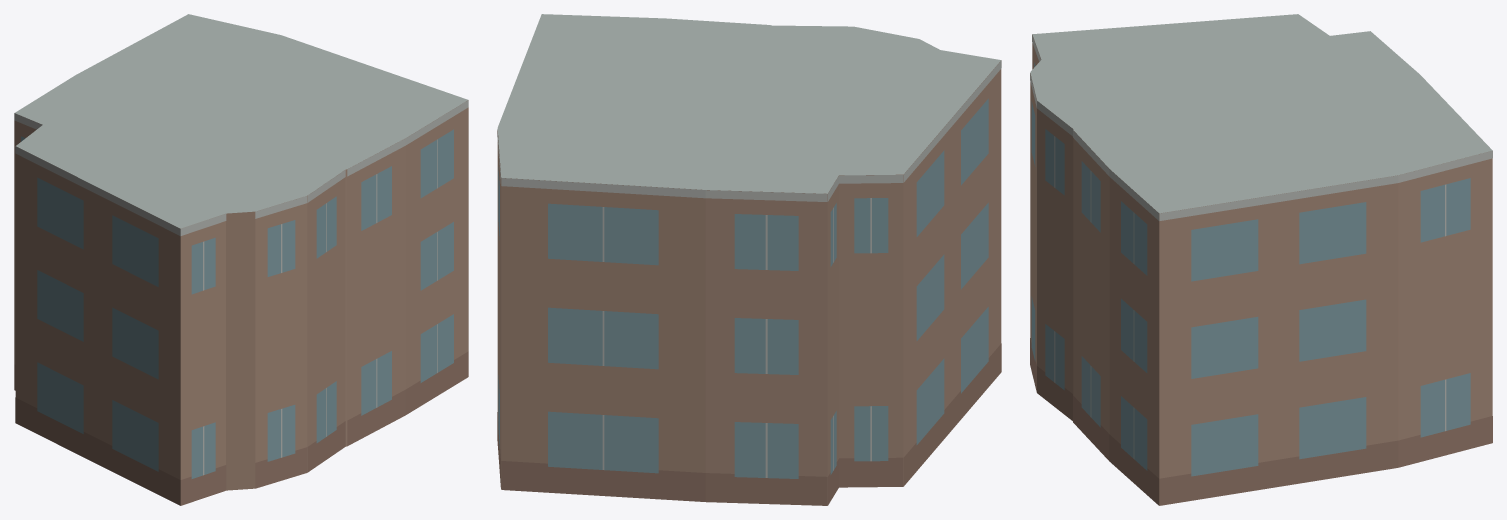
Rendered from survey-upis-32751705.glb.
3 views of the same model, side by side, from view 1: azimuth 30°, elevation 25°; view 2: azimuth 150°, elevation 25°; view 3: azimuth 270°, elevation 25° (orthographic). The views are drawn at different scales.
Visible parts, largest first — view 1: survey-upis-32751705.tmp; view 2: survey-upis-32751705.tmp; view 3: survey-upis-32751705.tmp.
Part boxes in pixels (x1,y1,x2,y2): survey-upis-32751705.tmp: (14,14,468,505); survey-upis-32751705.tmp: (497,14,1001,505); survey-upis-32751705.tmp: (1030,14,1492,505).
Size of the model in its own units: 13.39 by 9.15 by 13.13.
